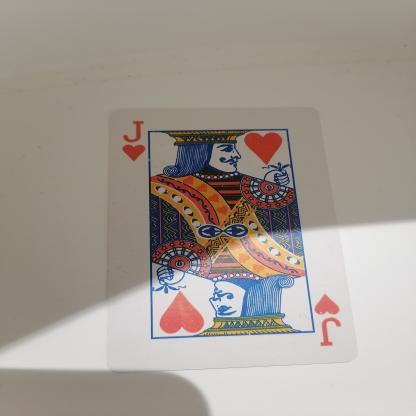JH: (297, 278, 344, 352), (117, 115, 156, 168)
